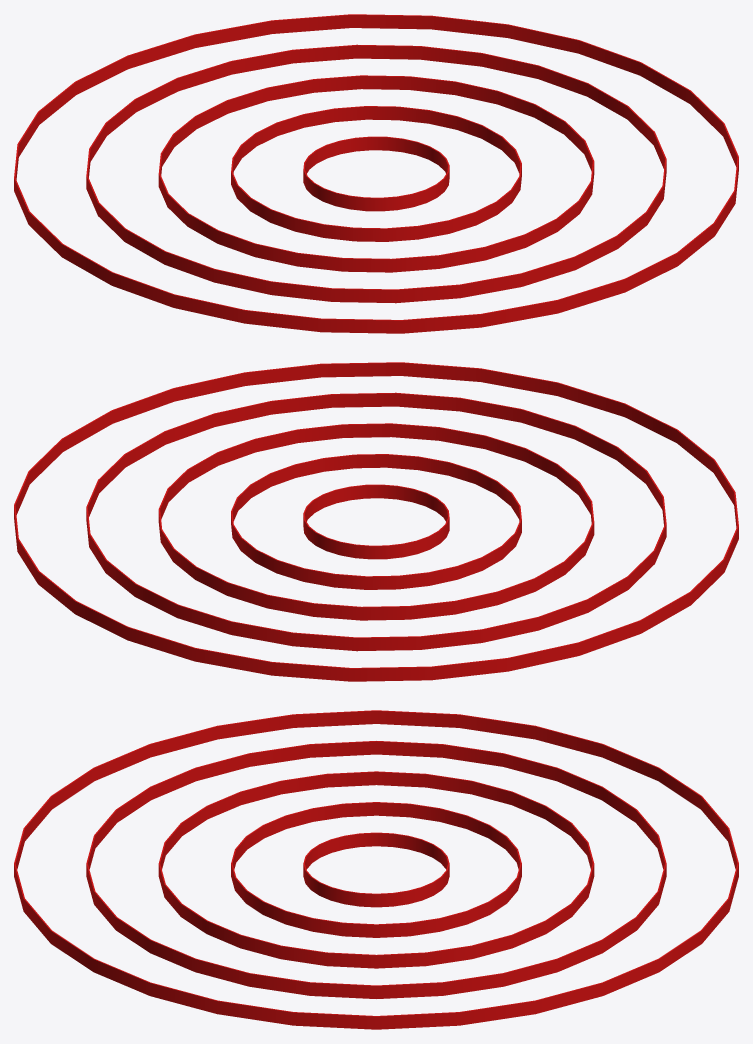
Rendered from testField01.FBX.
The picture shows the model from 3 angles, top to bottom: view 1: azimuth 30°, elevation 25°; view 2: azimuth 150°, elevation 25°; view 3: azimuth 270°, elevation 25°; orthographic projection.
Visible parts, largest first — view 1: Circle007, Circle005, Circle004, Circle003, Circle002; view 2: Circle007, Circle005, Circle004, Circle003, Circle002; view 3: Circle007, Circle005, Circle004, Circle003, Circle002.
Part boxes in pixels (x1,y1,x2,y2): Circle007: (14,14,738,333); Circle005: (86,44,666,303); Circle004: (158,75,594,272); Circle003: (231,106,521,241); Circle002: (303,136,449,211); Circle007: (14,362,738,681); Circle005: (86,392,666,651); Circle004: (158,423,594,620); Circle003: (231,454,521,589); Circle002: (303,484,449,559); Circle007: (14,710,738,1029); Circle005: (86,741,666,998); Circle004: (158,771,594,968); Circle003: (231,802,521,937); Circle002: (303,832,449,907).
Size of what is drawn, in the model's own units: 50.1 by 1 by 50.1.
